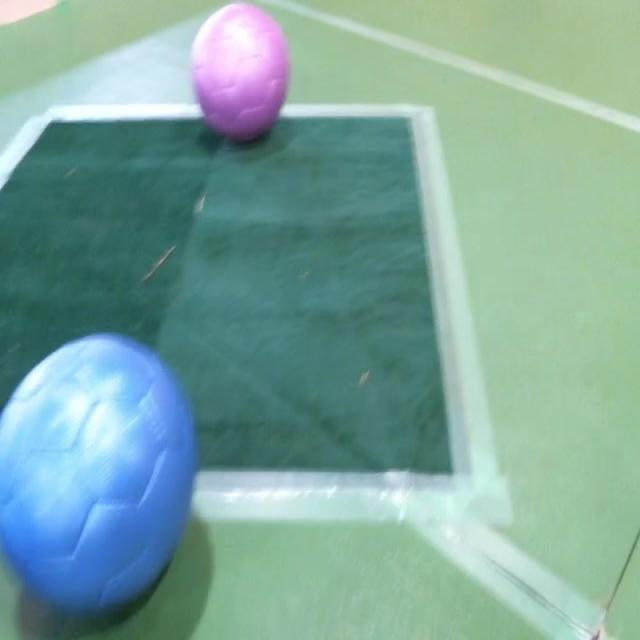blue_ball: (0, 329, 199, 616)
purple_ball: (192, 6, 294, 140)
